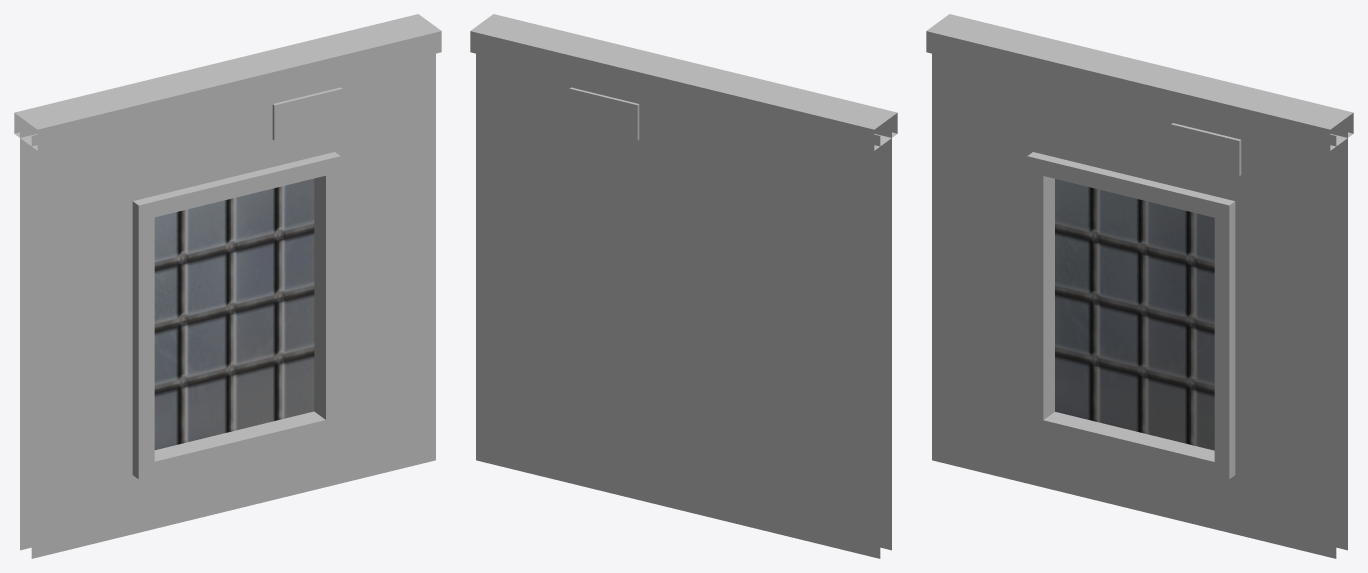
Rendered from Wall_1_6_Up.fbx.
3 renders of one model, left to right at view 1: azimuth 30°, elevation 25°; view 2: azimuth 150°, elevation 25°; view 3: azimuth 330°, elevation 25°, orthographic.
Parts seen in each view (by area): view 1: polySurface9708; view 2: polySurface9708; view 3: polySurface9708.
Boxes of the visible parts, x1,y1,x2,y2 form: polySurface9708: [14, 14, 441, 558]; polySurface9708: [470, 14, 897, 558]; polySurface9708: [926, 14, 1353, 558].
Size of the model in its own units: 4 by 4.1 by 0.4.
